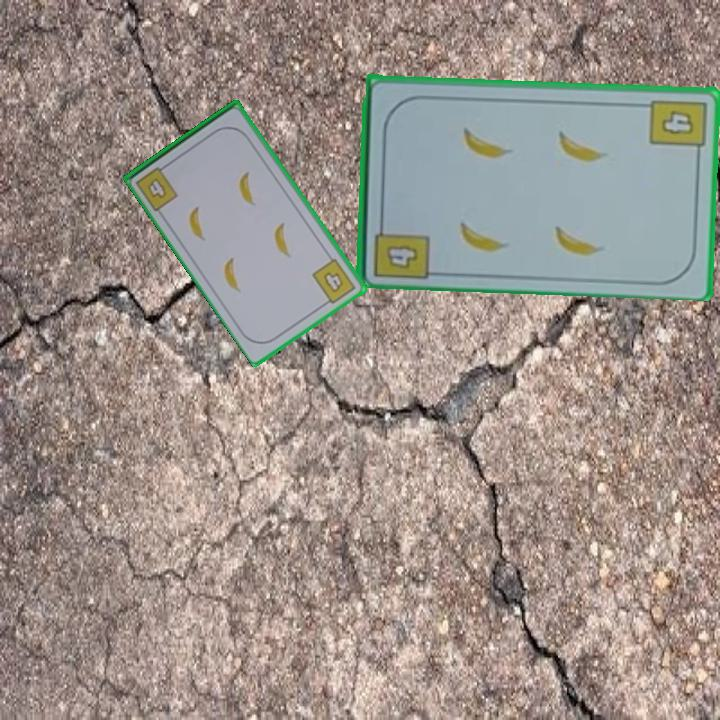4b: (646, 96, 709, 160), (370, 215, 431, 281), (308, 254, 359, 309), (132, 160, 181, 214)
